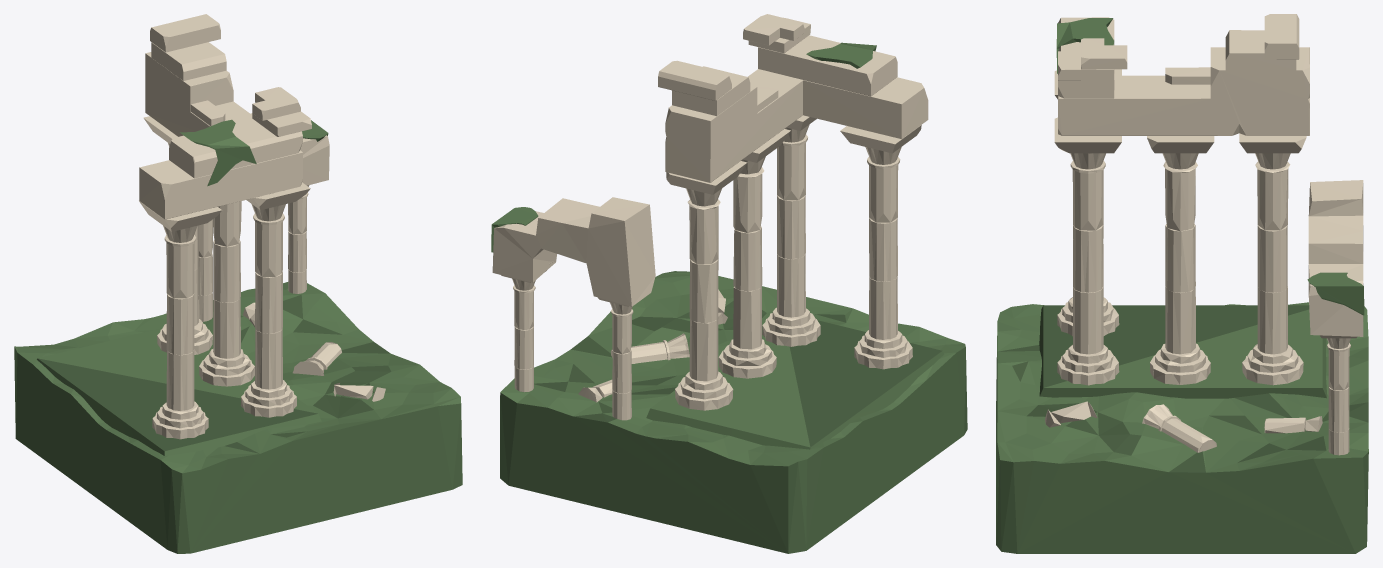
The model's file is Low_Poly_Greek_Ruins.glb.
3 views of the same model, side by side, from view 1: azimuth 30°, elevation 25°; view 2: azimuth 150°, elevation 25°; view 3: azimuth 270°, elevation 25° (orthographic). The views are drawn at different scales.
Parts seen in each view (by area): view 1: Cube.002_Material_0, Circle.009_Ruin_0, Circle.007_Ruin_0, Cube.001_Material.002_0, Cube.001_Material_0, Circle.010_Ruin_0, Circle.001_Ruin_0, Circle.009_Ruin.001_0, Cube.002_Material.002_0, Plane.001_Material_0, Circle.012_Ruin_0, Circle.003_Ruin_0 (+5 smaller); view 2: Cube.002_Material_0, Circle.009_Ruin_0, Plane_Ruin_0, Cube.001_Material_0, Circle.007_Ruin_0, Circle.003_Ruin_0, Cube.001_Material.002_0, Circle.001_Ruin_0, Circle.010_Ruin_0, Cube.002_Material.002_0, Circle.011_Ruin_0, Circle.012_Ruin_0 (+4 smaller); view 3: Cube.002_Material_0, Circle.009_Ruin_0, Cube.001_Material.002_0, Circle.010_Ruin_0, Circle.001_Ruin_0, Circle.003_Ruin_0, Cube.001_Material_0, Plane_Ruin_0, Cube.002_Material.002_0, Circle.009_Ruin.001_0, Circle.012_Ruin_0, Cube.003_Material_0 (+10 smaller).
Part boxes in pixels (bbox=[...]): Cube.002_Material_0: bbox=[14, 282, 462, 553]; Circle.009_Ruin_0: bbox=[139, 14, 311, 219]; Circle.007_Ruin_0: bbox=[139, 201, 221, 439]; Cube.001_Material.002_0: bbox=[38, 358, 317, 451]; Cube.001_Material_0: bbox=[37, 328, 321, 455]; Circle.010_Ruin_0: bbox=[240, 182, 310, 417]; Circle.001_Ruin_0: bbox=[199, 201, 254, 386]; Circle.009_Ruin.001_0: bbox=[152, 37, 302, 218]; Cube.002_Material.002_0: bbox=[212, 294, 391, 453]; Plane.001_Material_0: bbox=[180, 119, 256, 186]; Circle.012_Ruin_0: bbox=[288, 185, 309, 293]; Circle.003_Ruin_0: bbox=[143, 116, 212, 354]; Cube.002_Material_0: bbox=[500, 271, 967, 553]; Circle.009_Ruin_0: bbox=[658, 14, 928, 182]; Plane_Ruin_0: bbox=[492, 197, 655, 306]; Cube.001_Material_0: bbox=[646, 326, 944, 449]; Circle.007_Ruin_0: bbox=[840, 125, 921, 369]; Circle.003_Ruin_0: bbox=[666, 161, 747, 410]; Cube.001_Material.002_0: bbox=[789, 320, 942, 447]; Circle.001_Ruin_0: bbox=[718, 129, 790, 378]; Circle.010_Ruin_0: bbox=[762, 115, 820, 346]; Cube.002_Material.002_0: bbox=[534, 301, 846, 422]; Circle.011_Ruin_0: bbox=[598, 297, 633, 420]; Circle.012_Ruin_0: bbox=[501, 261, 553, 392]; Cube.002_Material_0: bbox=[996, 302, 1368, 553]; Circle.009_Ruin_0: bbox=[1058, 14, 1309, 135]; Cube.001_Material.002_0: bbox=[1040, 305, 1326, 398]; Circle.010_Ruin_0: bbox=[1054, 117, 1121, 385]; Circle.001_Ruin_0: bbox=[1147, 136, 1214, 384]; Circle.003_Ruin_0: bbox=[1239, 133, 1306, 385]; Cube.001_Material_0: bbox=[1039, 306, 1327, 397]; Plane_Ruin_0: bbox=[1308, 180, 1363, 336]; Cube.002_Material.002_0: bbox=[999, 345, 1368, 472]; Circle.009_Ruin.001_0: bbox=[1059, 18, 1307, 135]; Circle.012_Ruin_0: bbox=[1320, 335, 1357, 455]; Cube.003_Material_0: bbox=[1307, 272, 1364, 315].
Size of the model in its own units: 1.59 by 2.06 by 1.57.
